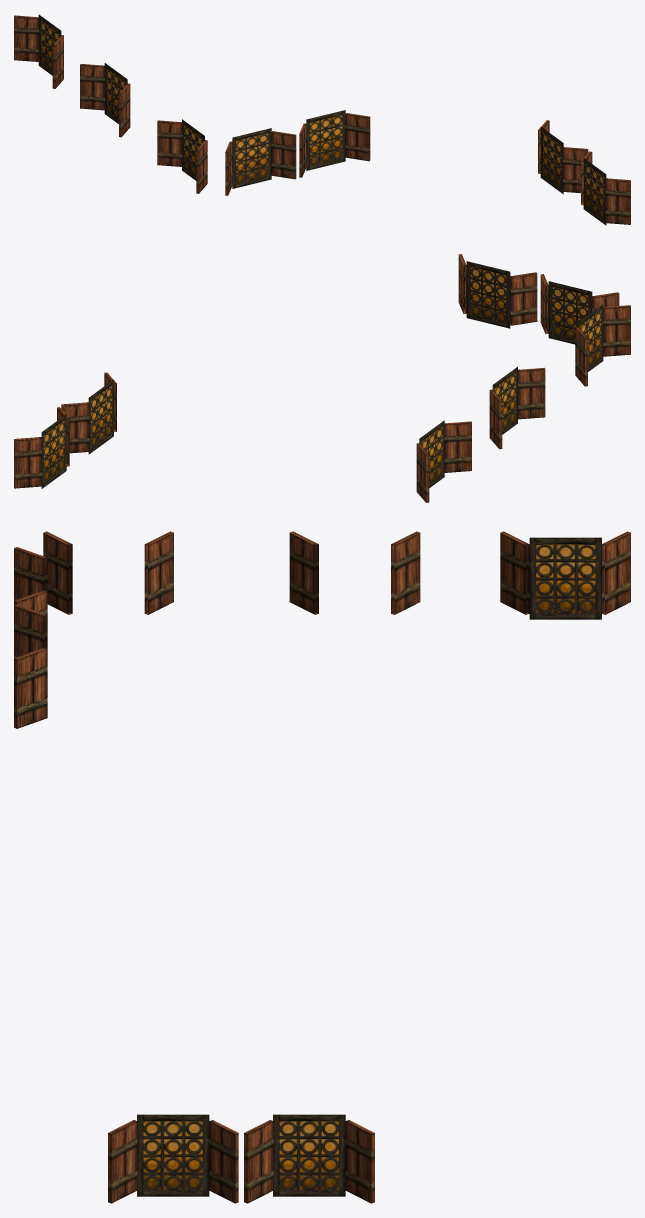
The model's file is LAKETOWN_EXTERIOR_PS_LT_ROUND_WINDOW1_15.fbx.
3 renders of one model, top to bottom at view 1: azimuth 30°, elevation 25°; view 2: azimuth 150°, elevation 25°; view 3: azimuth 270°, elevation 25°, orthographic. The views are drawn at different scales.
Parts seen in each view (by area): view 1: LAKETOWN_EXTERIOR_PS_LT_ROUND_WINDOW1_15; view 2: LAKETOWN_EXTERIOR_PS_LT_ROUND_WINDOW1_15; view 3: LAKETOWN_EXTERIOR_PS_LT_ROUND_WINDOW1_15.
Boxes of the visible parts, x1,y1,x2,y2 form: LAKETOWN_EXTERIOR_PS_LT_ROUND_WINDOW1_15: (14, 14, 630, 225); LAKETOWN_EXTERIOR_PS_LT_ROUND_WINDOW1_15: (14, 254, 630, 502); LAKETOWN_EXTERIOR_PS_LT_ROUND_WINDOW1_15: (14, 531, 630, 1203).
Size of the model in its own units: 135595 by 59097 by 99886.
2 materials, 2 textured.
